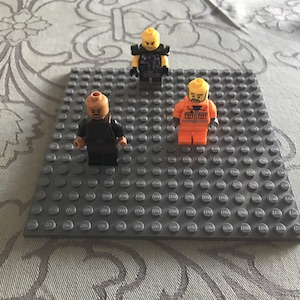Lego: (74, 90, 127, 170), (172, 78, 216, 148), (129, 29, 171, 92)
